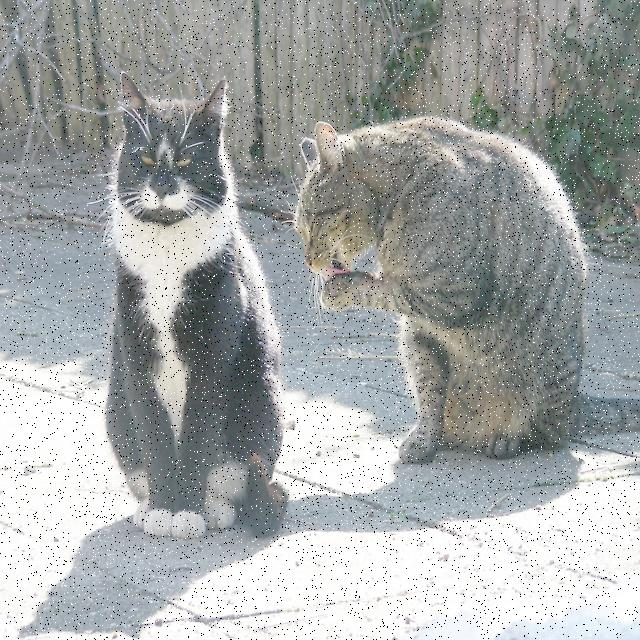cat: (295, 118, 640, 463), (105, 73, 288, 538)
